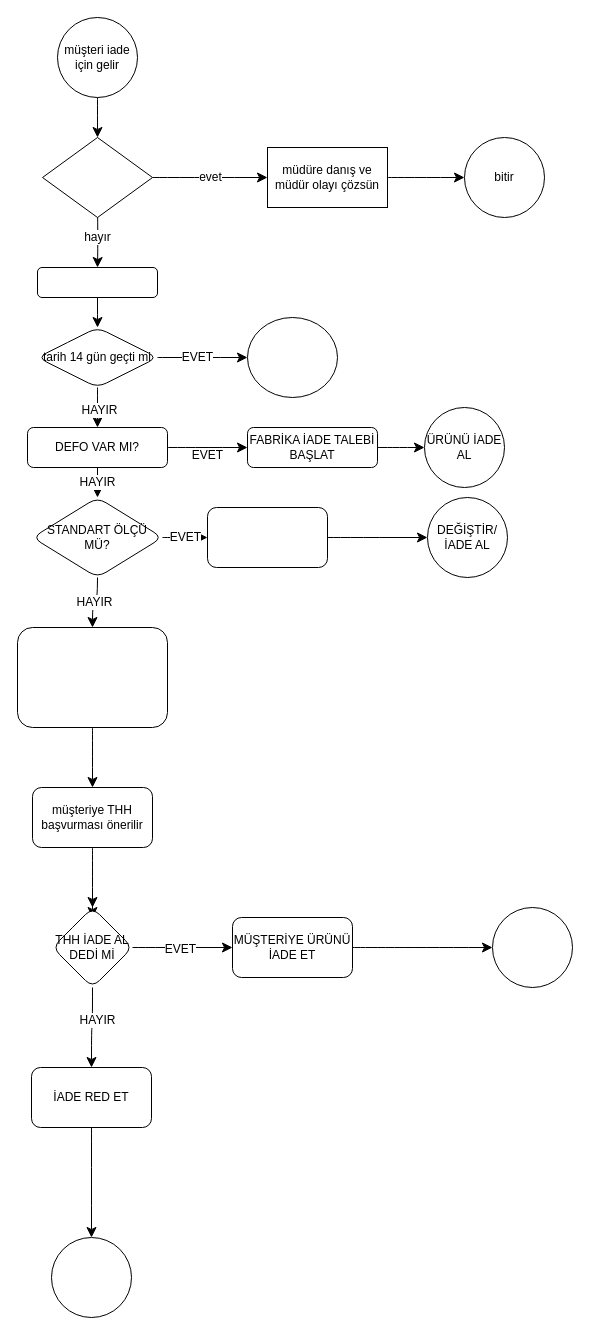
Some shapes in this 590 by 1335 pixel diagram are drawn without their labels. Here are the shapes that lost their labels. From the top down, the centre of each, then its label:
At (x=97, y=177): "İSTİSNAİ BİR DURUM MU".
At (x=97, y=282): "ürünü ne zaman aldınız?".
At (x=292, y=357): "iade süresi doldu(red)".
At (x=267, y=537): "DEĞİŞİM YAP".
At (x=92, y=677): "Mağaza Doğrudan İade Alamaz (Fabrika Ürünü Geri Almaz)".
At (x=532, y=947): "İADE AL".
At (x=91, y=1277): "RED".
